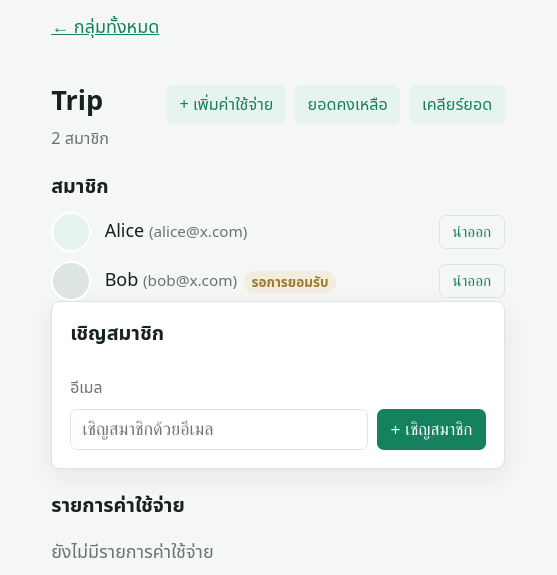
GroupDetailPage › a 204 response removes the member from the list
The width and height of the screenshot is (557, 575).
Expected: the list item "Bob" is shown, [105,268,138,294]
Click the button "นำออก" in the row of "bob@x.com": click(472, 281) [439,264,505,298]
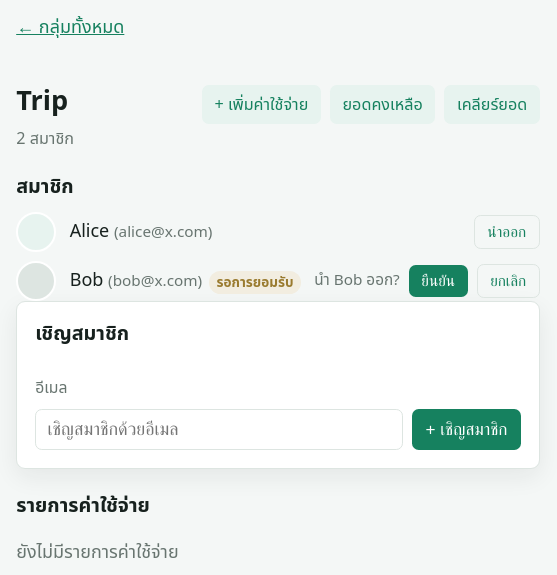
Click the button "ยืนยัน": click(438, 281) [409,265,468,297]
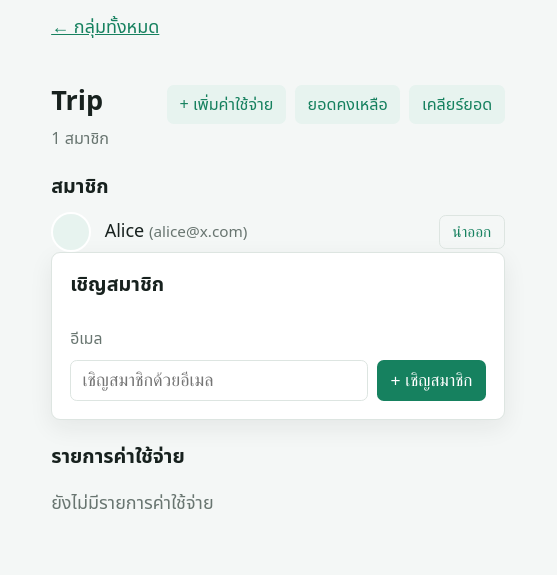
Expected: the text "bob" is gone
